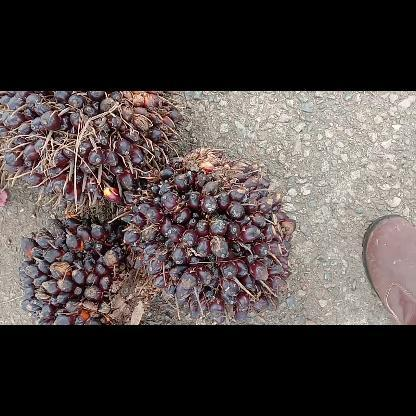TBS mentah: (121, 146, 295, 322), (1, 91, 181, 204), (19, 216, 157, 324)
